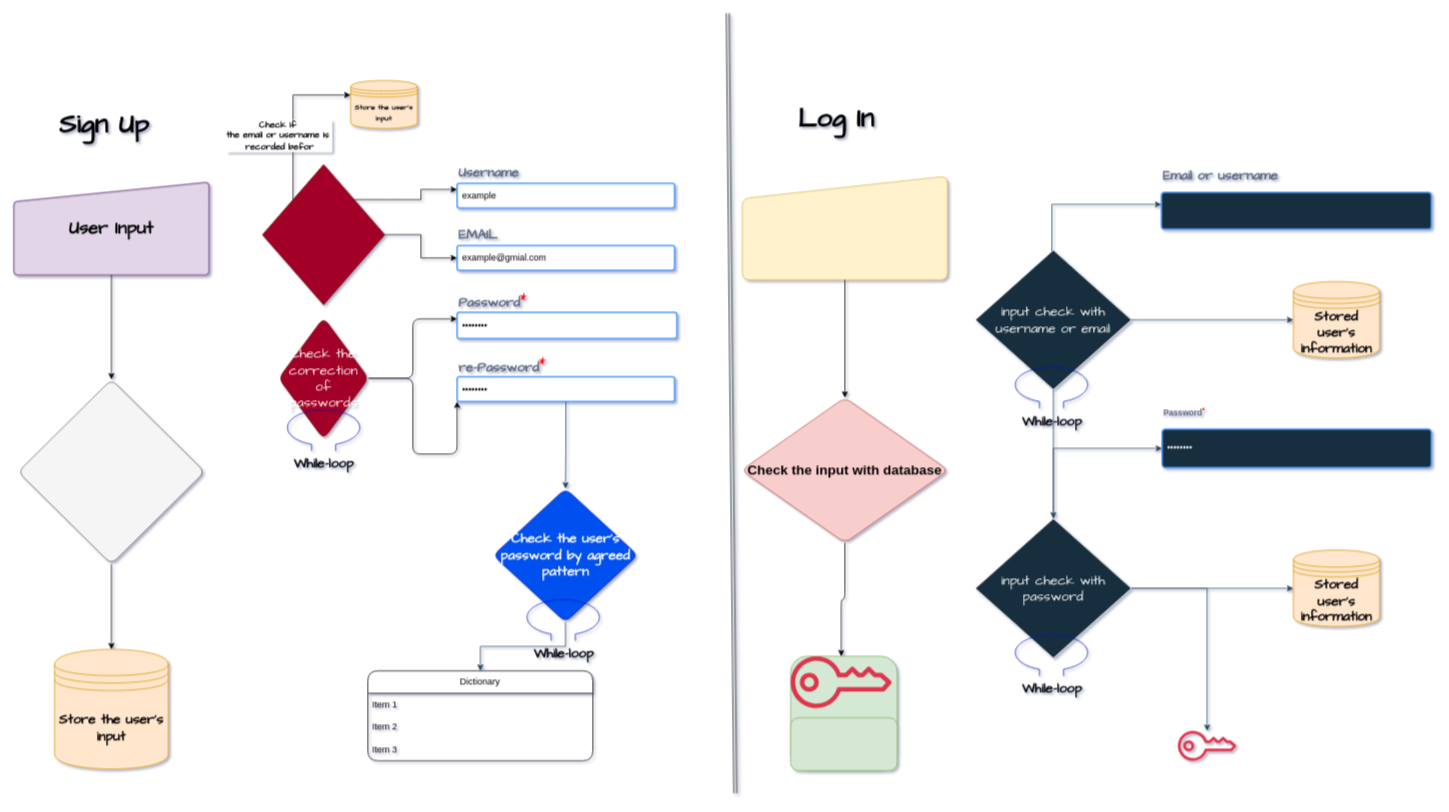
Some shapes in this 1449 by 812 pixel diagram are drawn without their labels. Here are the shapes that lost their labels. From the top down, the centre of each, then its label:
At point 844,227: "User input enquire of information".
At point 1296,210: "Messina Cake".
At point 323,234: "Check the repetitive usernames and passwords".
At point 111,471: "Check the user's input with agreed pattern".
At point 843,744: "access".
